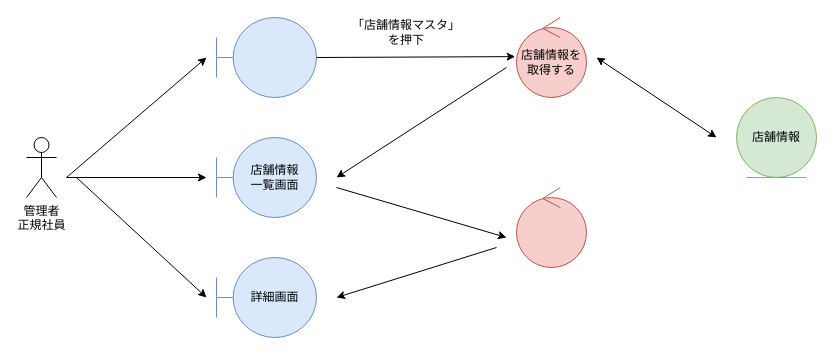
This 834x355 diagram has some shape labels left out. The shapes that lost their labels are listed below. From the top down, each one's centre as x and y in pixels, then its label:
At [266,57]: "ログイン済 ホーム画面".
At [551,227]: "表示する".
